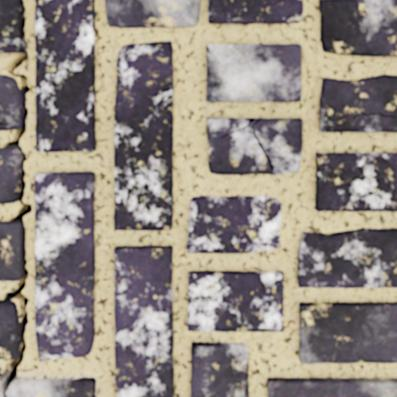brick: (34, 172, 94, 360), (114, 41, 172, 230), (35, 0, 95, 151), (114, 245, 173, 396), (299, 302, 396, 363), (188, 270, 283, 331), (298, 228, 396, 287), (206, 44, 301, 101), (187, 195, 280, 253), (207, 118, 301, 174), (315, 152, 396, 211), (320, 75, 396, 132), (319, 0, 396, 56), (191, 342, 248, 396), (105, 0, 200, 27), (268, 377, 396, 396), (208, 0, 302, 23), (0, 221, 22, 280), (0, 75, 21, 130), (0, 300, 19, 358), (0, 0, 21, 52), (0, 148, 18, 203)
broken_brick: (7, 377, 96, 396), (0, 373, 6, 381)
crack: (0, 0, 32, 396), (220, 117, 274, 171), (0, 121, 9, 126), (206, 46, 211, 54)
